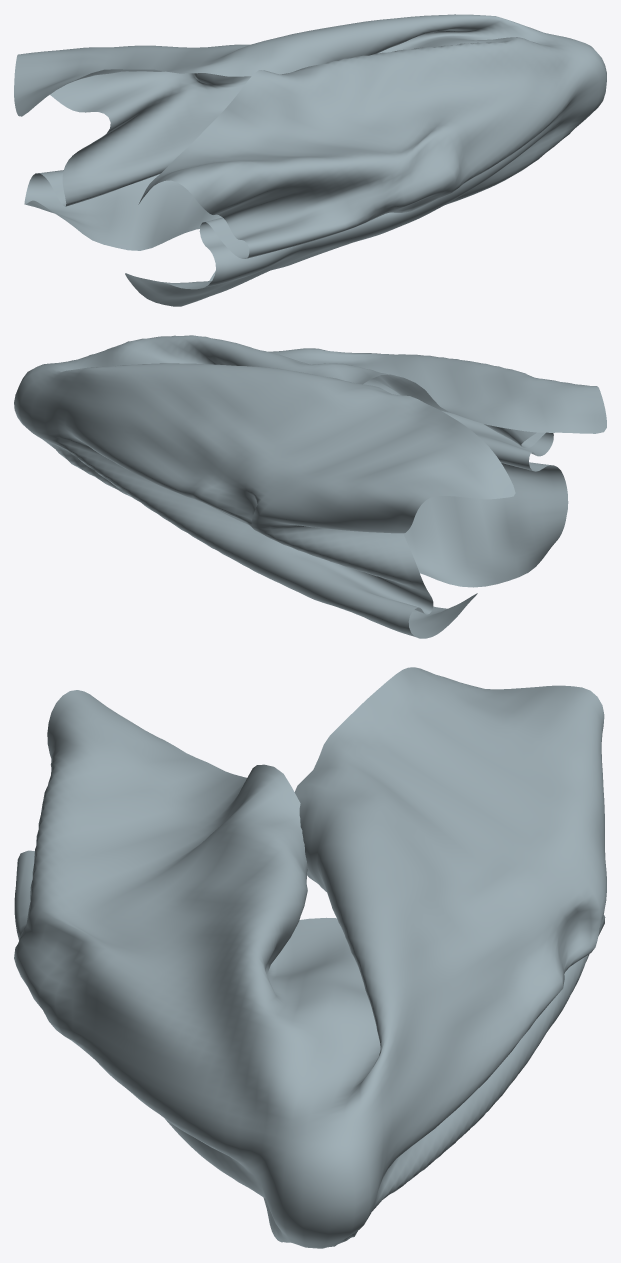
The model's file is Ghost.fbx.
3 renders of one model, top to bottom at view 1: azimuth 30°, elevation 25°; view 2: azimuth 150°, elevation 25°; view 3: azimuth 270°, elevation 25°, orthographic. The views are drawn at different scales.
Visible parts, largest first — view 1: Plane.001; view 2: Plane.001; view 3: Plane.001.
Part boxes in pixels (box(x1,y1,x2,y2)): Plane.001: box(14, 14, 606, 306); Plane.001: box(14, 335, 606, 638); Plane.001: box(14, 667, 606, 1248).
Size of the model in its own units: 225 by 82.62 by 133.
